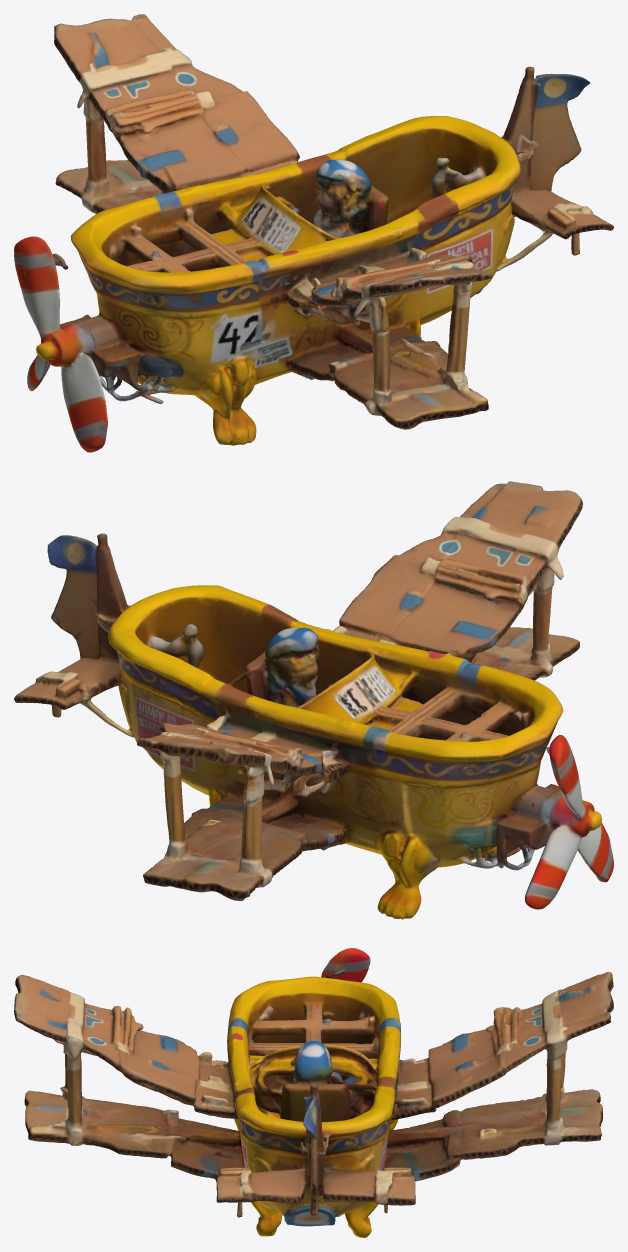
Rendered from Meshy_AI_Bathtub_Cardboard_0402170410_texture.glb.
3 renders of one model, top to bottom at view 1: azimuth 30°, elevation 25°; view 2: azimuth 150°, elevation 25°; view 3: azimuth 270°, elevation 25°, orthographic. The views are drawn at different scales.
Bounding box in the file's own units: 1.78 × 0.8218 × 2.
Materials: 1 (1 with a texture image).
